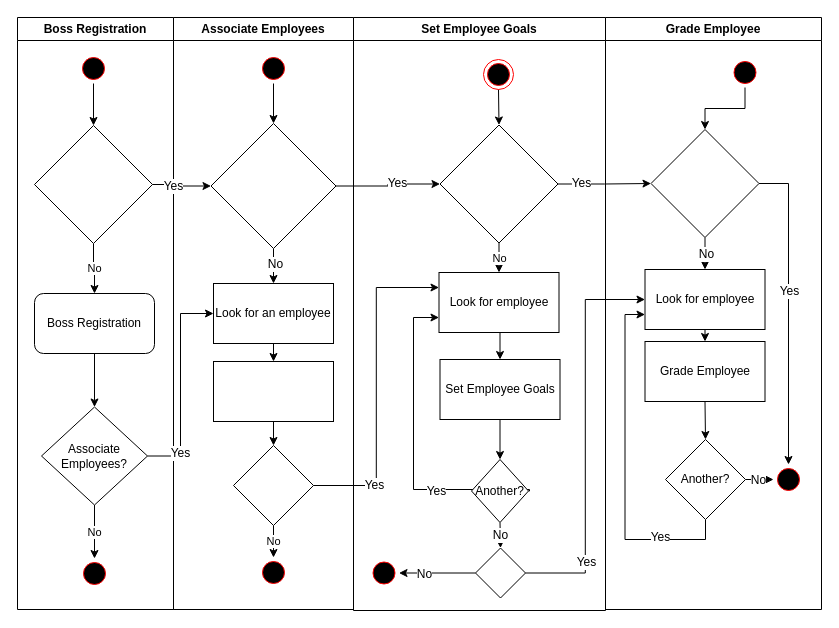
Image size: 839x628. Some labels were removed from this diagram. Here are the shapes that lost their labels. From the top down, the centre of each, then its label:
At (x=93, y=184): "already in the system?".
At (x=273, y=185): "already employees associated?".
At (x=498, y=183): "already set your Employees goals?".
At (x=704, y=183): "already graded employees?".
At (x=273, y=391): "Associate employee to boss".
At (x=273, y=485): "Set Goals".
At (x=500, y=572): "Grade".
